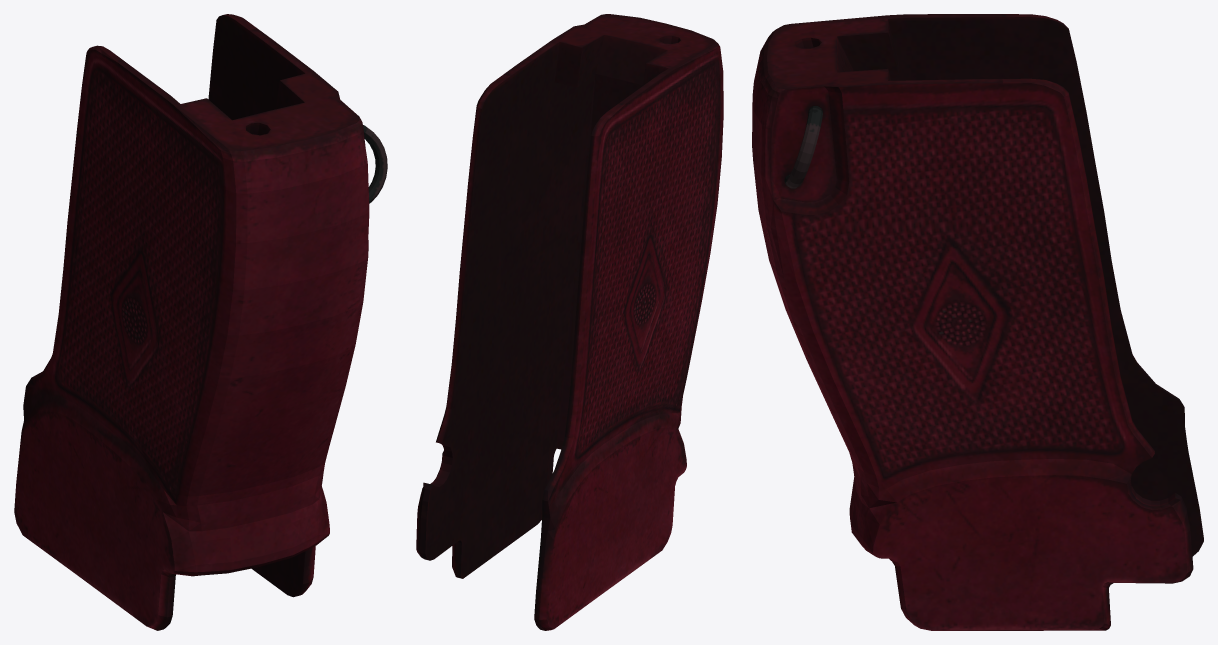
3 views of the same model, side by side, from view 1: azimuth 30°, elevation 25°; view 2: azimuth 150°, elevation 25°; view 3: azimuth 270°, elevation 25° (orthographic). The views are drawn at different scales.
Visible parts, largest first — view 1: TW_56e05a6ed2720bd0748b4567_PZ_Import; view 2: TW_56e05a6ed2720bd0748b4567_PZ_Import; view 3: TW_56e05a6ed2720bd0748b4567_PZ_Import.
Part boxes in pixels (bbox=[...]): TW_56e05a6ed2720bd0748b4567_PZ_Import: bbox=[14, 14, 387, 630]; TW_56e05a6ed2720bd0748b4567_PZ_Import: bbox=[416, 14, 723, 630]; TW_56e05a6ed2720bd0748b4567_PZ_Import: bbox=[752, 14, 1203, 630].
Bounding box in the file's own units: 0.0193 × 0.0422 × 0.0564.
1 material, 1 textured.
